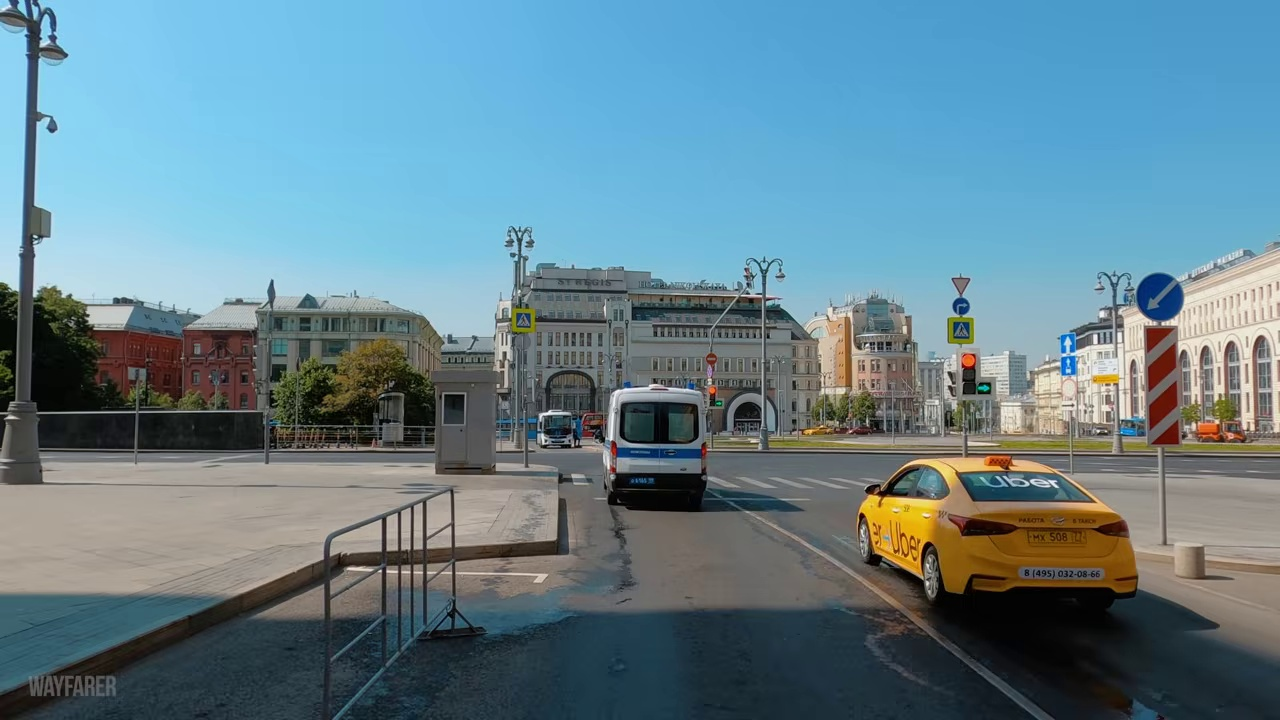apagada: (35, 114, 61, 140)
